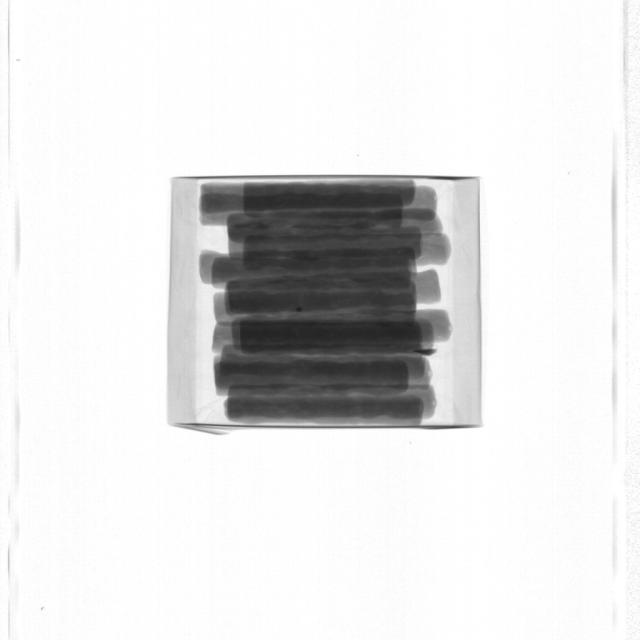ym: (413, 348, 438, 355), (295, 307, 303, 312)
